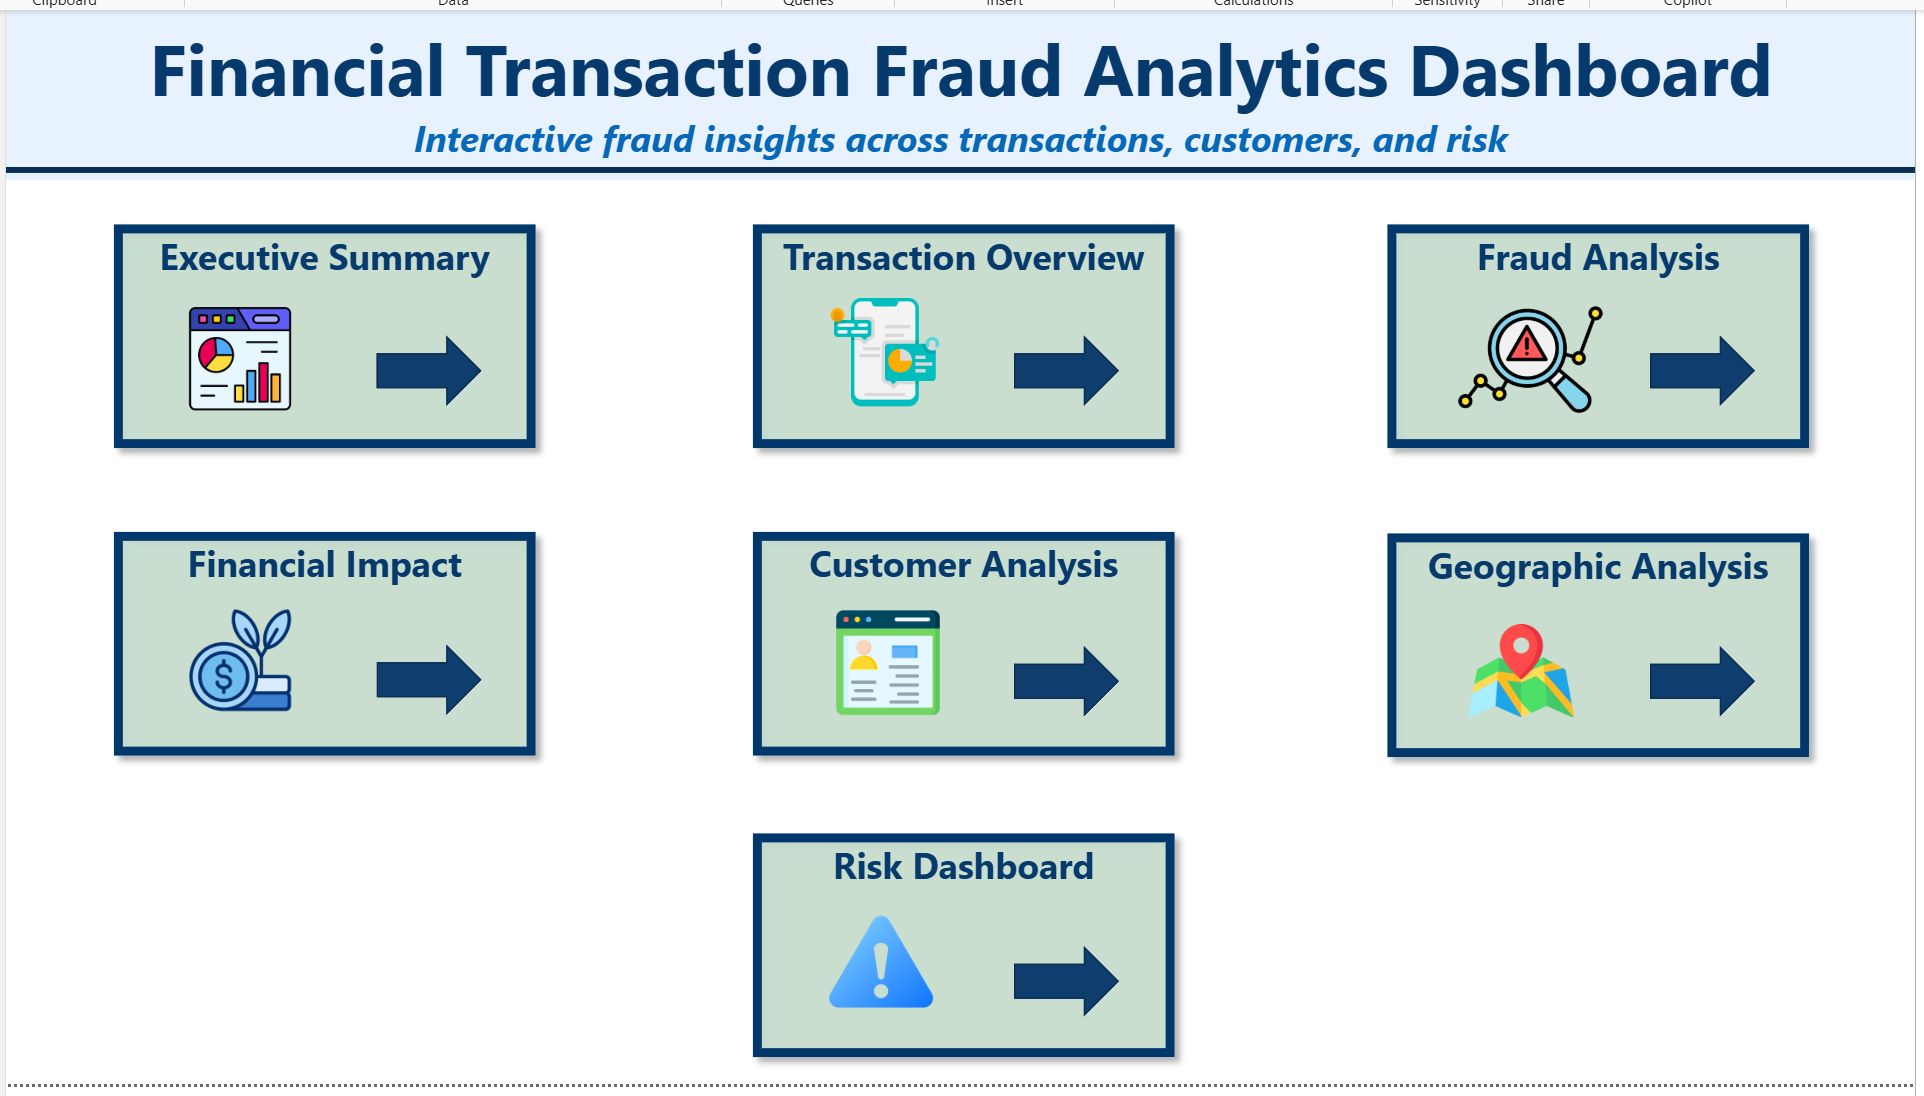

The page's visual inventory and layout, read from the dashboard file:
{"tool":"powerbi","page":{"name":"Home","canvas":[1280,720],"ordinal":0},"visuals":[{"type":"textbox","box":[0,0,1280.5,114.3],"z":0},{"type":"shape","box":[0,100.9,1280.5,13.4],"z":1000},{"type":"actionButton","box":[63.4,134.8,300.7,168],"z":2000},{"type":"image","box":[113.7,199.1,86.5,69.4],"z":3000},{"type":"shape","box":[248.4,218.3,70.4,47.3],"z":4000},{"type":"actionButton","box":[491.8,134.8,300.7,168],"z":5000},{"type":"actionButton","box":[917.3,134.8,300.7,168],"z":6000},{"type":"actionButton","box":[63.4,341,300.7,168],"z":7000},{"type":"actionButton","box":[491.8,341,300.7,168],"z":8000},{"type":"actionButton","box":[917.3,342,300.7,168],"z":9000},{"type":"actionButton","box":[491.8,543.1,300.7,168],"z":10000},{"type":"shape","box":[675.9,218.3,70.4,47.3],"z":11000},{"type":"shape","box":[1102.3,218.3,70.4,47.3],"z":12000},{"type":"image","box":[958.5,184.1,127.7,100.6],"z":13000},{"type":"image","box":[521,193.1,136.8,72.4],"z":14000},{"type":"shape","box":[248.4,425.4,70.4,47.3],"z":15000},{"type":"image","box":[119.7,399.3,74.4,73.4],"z":16000},{"type":"shape","box":[675.9,426.4,70.4,47.3],"z":17000},{"type":"shape","box":[1102.3,426.4,70.4,47.3],"z":18000},{"type":"shape","box":[675.9,627.6,70.4,47.3],"z":19000},{"type":"image","box":[540.1,401.3,102.6,72.4],"z":20000},{"type":"image","box":[980.6,399.3,70.4,87.5],"z":21000},{"type":"image","box":[540.1,601.5,93.5,73.4],"z":22000}]}

Visuals, with their boxes on the page's 1280x720 design canvas (x1, y1, x2, y2). These are canvas units, not pixel positions in the 1924x1096 screenshot, which may show the page scaled, cropped or inside an application window:
textbox: x1=0 y1=0 x2=1280 y2=114
shape: x1=0 y1=101 x2=1280 y2=114
actionButton: x1=63 y1=135 x2=364 y2=303
image: x1=114 y1=199 x2=200 y2=268
shape: x1=248 y1=218 x2=319 y2=266
actionButton: x1=492 y1=135 x2=792 y2=303
actionButton: x1=917 y1=135 x2=1218 y2=303
actionButton: x1=63 y1=341 x2=364 y2=509
actionButton: x1=492 y1=341 x2=792 y2=509
actionButton: x1=917 y1=342 x2=1218 y2=510
actionButton: x1=492 y1=543 x2=792 y2=711
shape: x1=676 y1=218 x2=746 y2=266
shape: x1=1102 y1=218 x2=1173 y2=266
image: x1=958 y1=184 x2=1086 y2=285
image: x1=521 y1=193 x2=658 y2=266
shape: x1=248 y1=425 x2=319 y2=473
image: x1=120 y1=399 x2=194 y2=473
shape: x1=676 y1=426 x2=746 y2=474
shape: x1=1102 y1=426 x2=1173 y2=474
shape: x1=676 y1=628 x2=746 y2=675
image: x1=540 y1=401 x2=643 y2=474
image: x1=981 y1=399 x2=1051 y2=487
image: x1=540 y1=602 x2=634 y2=675
